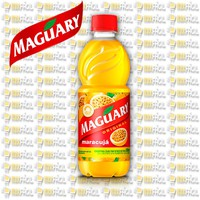maguary: (75, 9, 135, 180)
